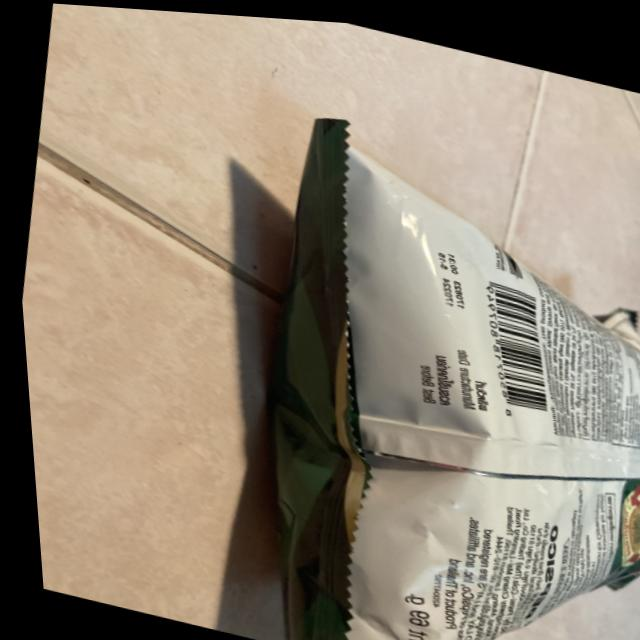Laygreen: (189, 85, 640, 640)
